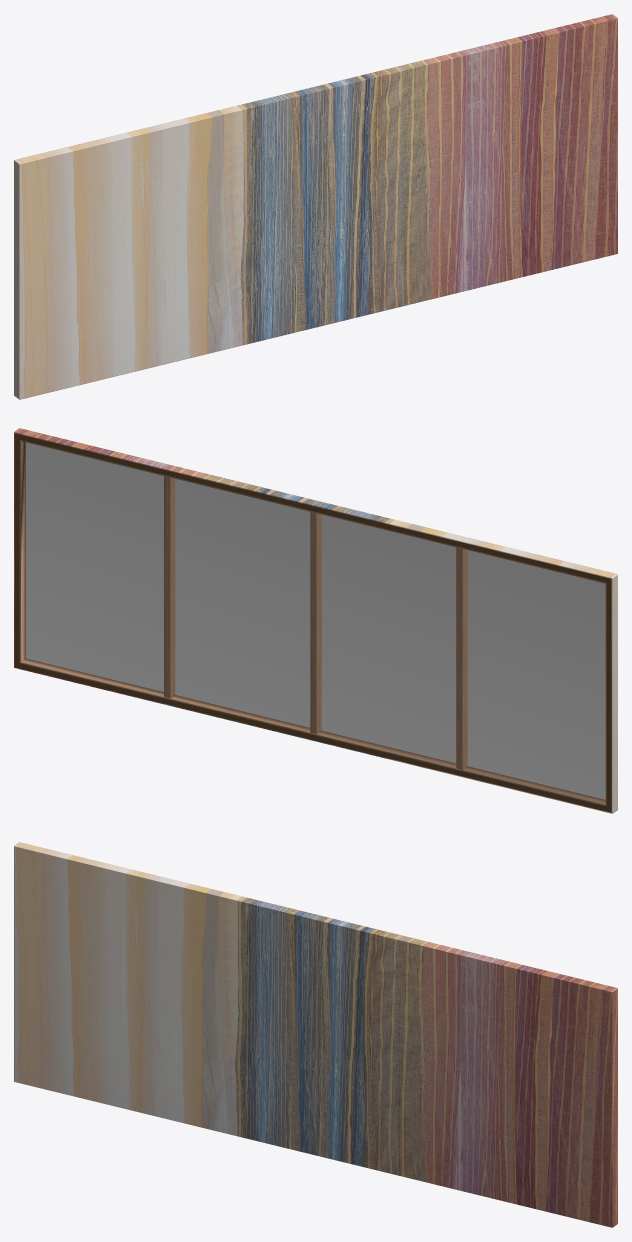
3 views of the same model, one above another, from view 1: azimuth 30°, elevation 25°; view 2: azimuth 150°, elevation 25°; view 3: azimuth 330°, elevation 25° (orthographic).
Parts seen in each view (by area): view 1: wallart7848; view 2: wallart7848; view 3: wallart7848.
Part boxes in pixels (<box>): wallart7848: <box>14,14,617,399</box>; wallart7848: <box>14,428,617,813</box>; wallart7848: <box>14,842,617,1227</box>.
Bounding box in the file's own units: 1.86 × 0.7 × 0.03.
Materials: 1 (1 with a texture image).
